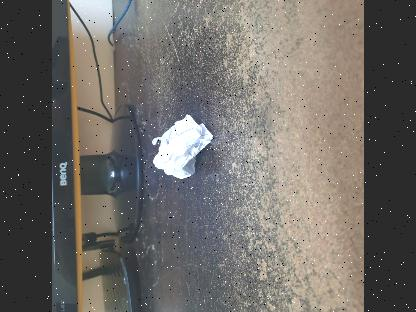Others: (150, 114, 216, 180)
